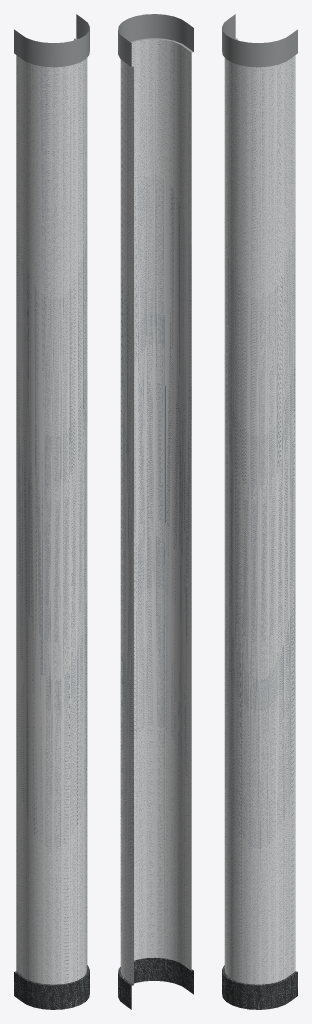
Rendered from WallFace_plinth_T2.dae.
3 views of the same model, side by side, from view 1: azimuth 30°, elevation 25°; view 2: azimuth 210°, elevation 25°; view 3: azimuth 330°, elevation 25° (orthographic).
Parts seen in each view (by area): view 1: group_0 (×3); view 2: group_0 (×3); view 3: group_0 (×3).
Part boxes in pixels (box(x1,y1,x2,y2)): group_0 (×3): box(14, 14, 89, 1009); group_0 (×3): box(118, 14, 193, 1009); group_0 (×3): box(222, 14, 297, 1009).
Bounding box in the file's own units: 10.63 × 7.87 × 157.
